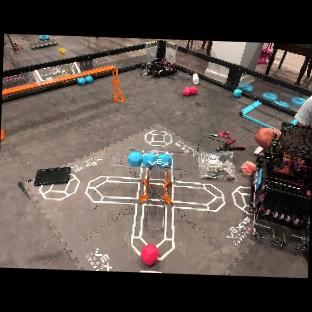0: (125, 149, 143, 168)
Goal: (2, 57, 123, 100)
Low_goal: (142, 168, 168, 231)
Med_goal: (112, 149, 211, 173)
Parking - B: (238, 100, 297, 130)
Robot: (254, 121, 312, 242)
V5_BLUE: (84, 76, 97, 85), (232, 87, 243, 97), (77, 77, 87, 86)
V5_RED: (137, 241, 165, 267), (190, 85, 201, 96), (184, 87, 191, 96)
blueingoal: (156, 151, 176, 170), (142, 151, 158, 168)
